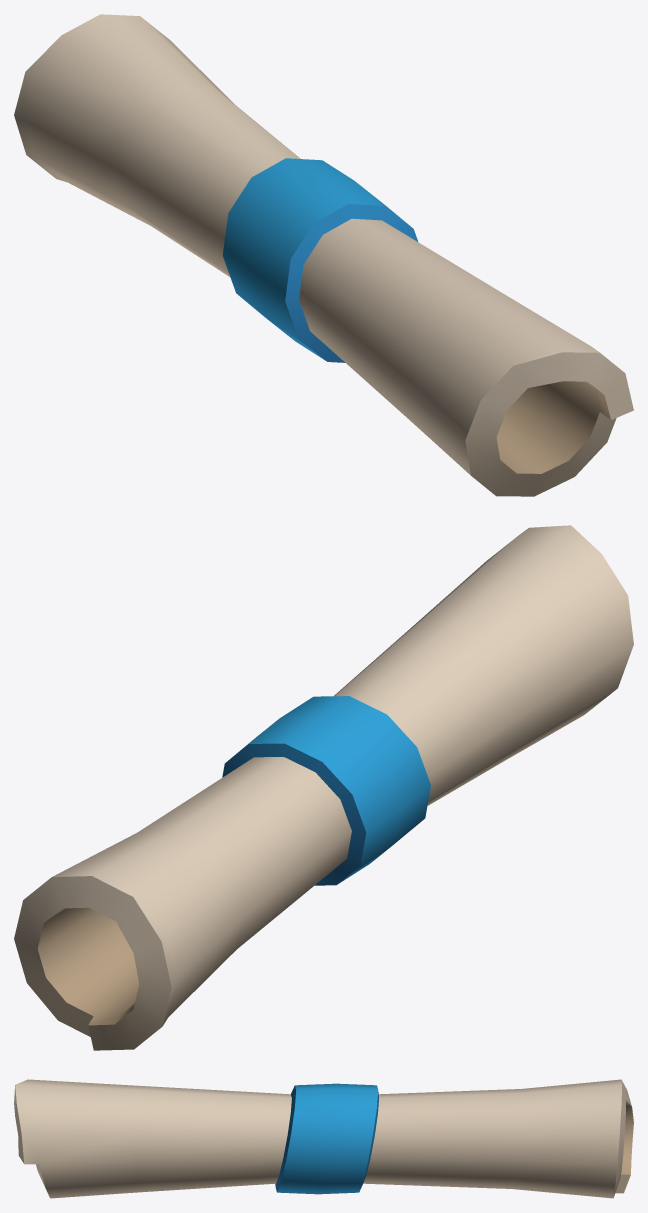
The model's file is map-rolled.glb.
The picture shows the model from 3 angles, top to bottom: view 1: azimuth 30°, elevation 25°; view 2: azimuth 150°, elevation 25°; view 3: azimuth 270°, elevation 25°; orthographic projection. The views are drawn at different scales.
Parts seen in each view (by area): view 1: map_rolled; view 2: map_rolled; view 3: map_rolled.
Boxes of the visible parts, x1,y1,x2,y2 form: map_rolled: [14, 14, 633, 496]; map_rolled: [14, 525, 633, 1050]; map_rolled: [14, 1079, 633, 1198].
Size of the model in its own units: 0.2397 by 0.2381 by 1.22.
1 material, 1 textured.
